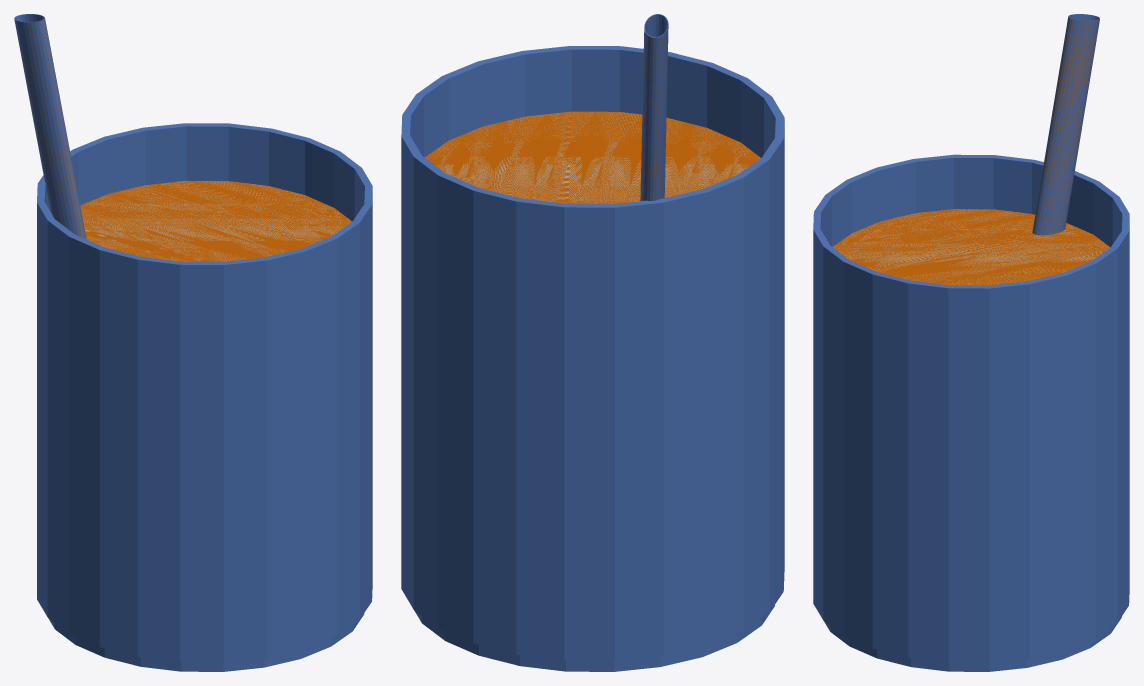
3 views of the same model, side by side, from view 1: azimuth 30°, elevation 25°; view 2: azimuth 150°, elevation 25°; view 3: azimuth 270°, elevation 25° (orthographic). The views are drawn at different scales.
Parts seen in each view (by area): view 1: mesh1_mesh1-geometry, mesh2_mesh2-geometry; view 2: mesh1_mesh1-geometry, mesh2_mesh2-geometry; view 3: mesh1_mesh1-geometry, mesh2_mesh2-geometry.
Boxes of the visible parts, <box> form: mesh1_mesh1-geometry: <box>37,123,372,671</box>; mesh2_mesh2-geometry: <box>14,14,86,239</box>; mesh1_mesh1-geometry: <box>401,46,784,671</box>; mesh2_mesh2-geometry: <box>640,14,668,201</box>; mesh1_mesh1-geometry: <box>813,154,1129,671</box>; mesh2_mesh2-geometry: <box>1032,14,1099,235</box>.
Bounding box in the file's own units: 0.4244 × 0.7998 × 0.4244.
